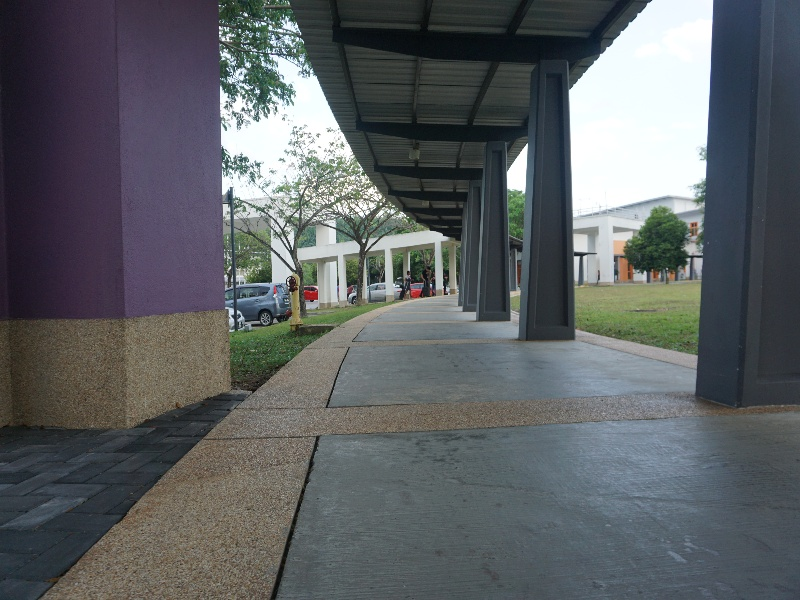Block D Pillar 7: (9, 9, 795, 491)
pillar: (5, 5, 228, 432), (703, 5, 792, 414), (525, 52, 570, 354), (477, 130, 514, 332)
